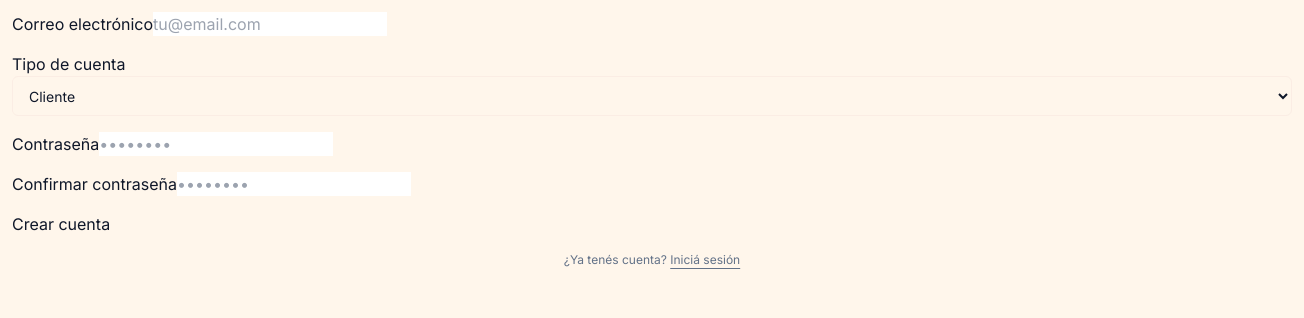
Test: RegisterFormContainer › shows error when email is already registered
Type "taken@test.com" into the field labelled "Correo electrónico" at (270, 24), box [153,12,387,36]
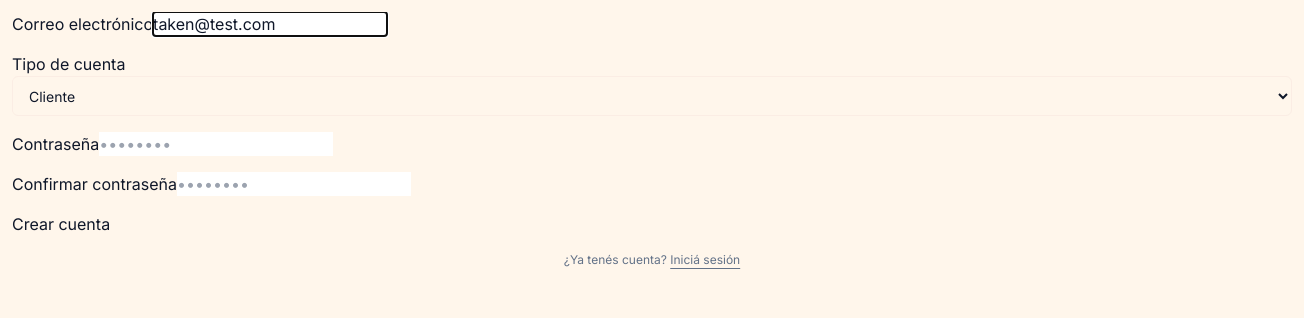
Type "securepass" into the password field labelled "Contraseña" at (216, 144), box [99,132,333,156]
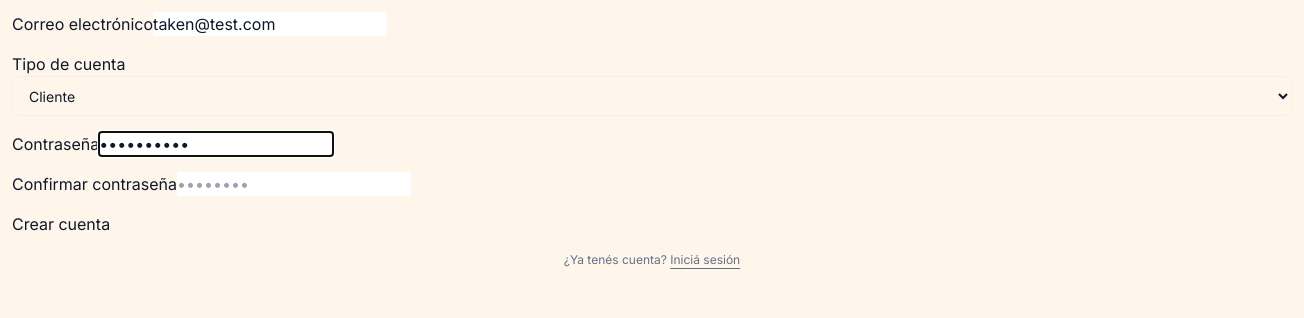
Type "securepass" into the password field labelled "Confirmar contraseña" at (294, 184), box [177,172,411,196]
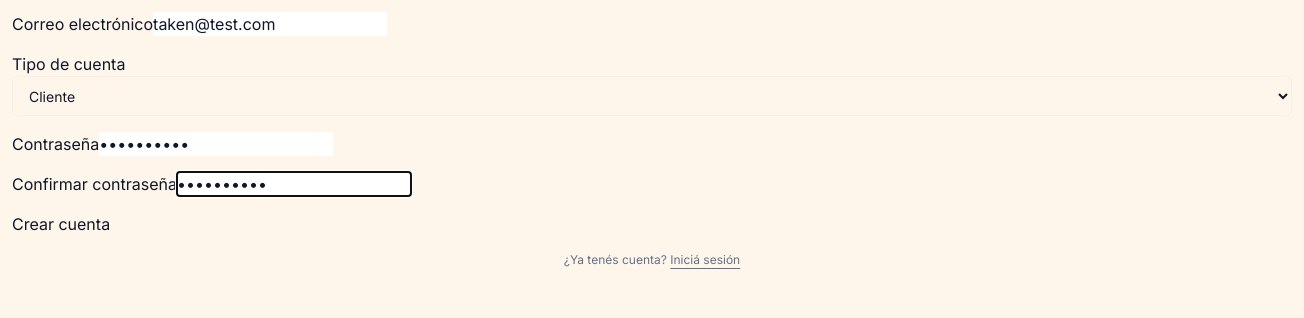
Click the button "Crear cuenta" at (61, 224), box [12,212,110,236]
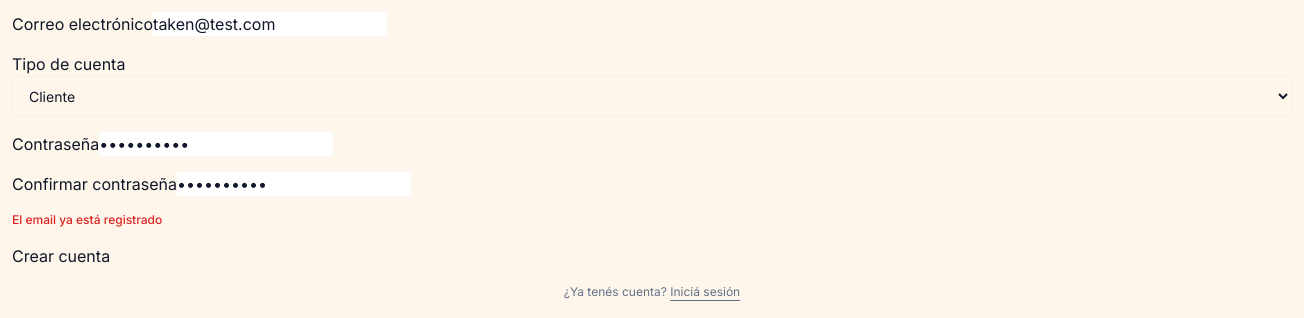
Check: the text "El email ya está registrado" is shown, box [12,212,162,227]
